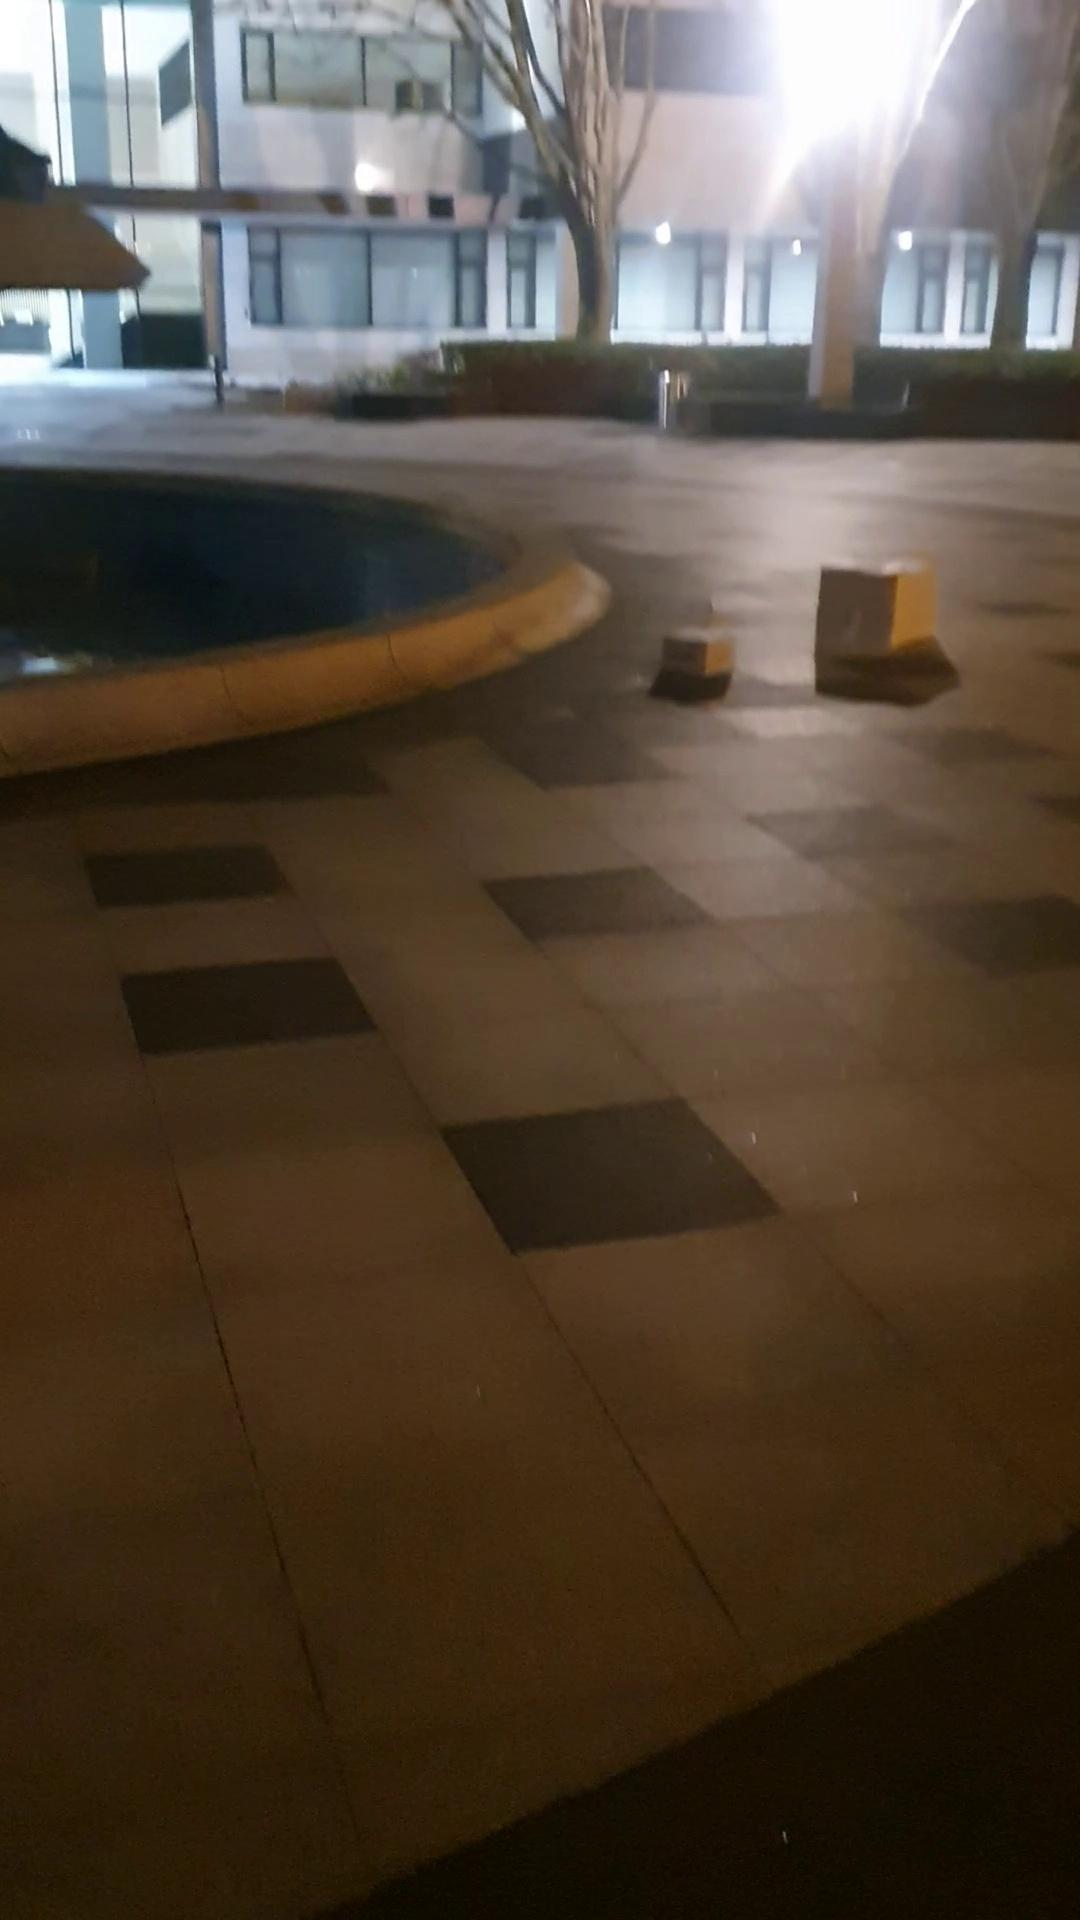Box: (814, 545, 959, 687), (647, 605, 729, 676)
